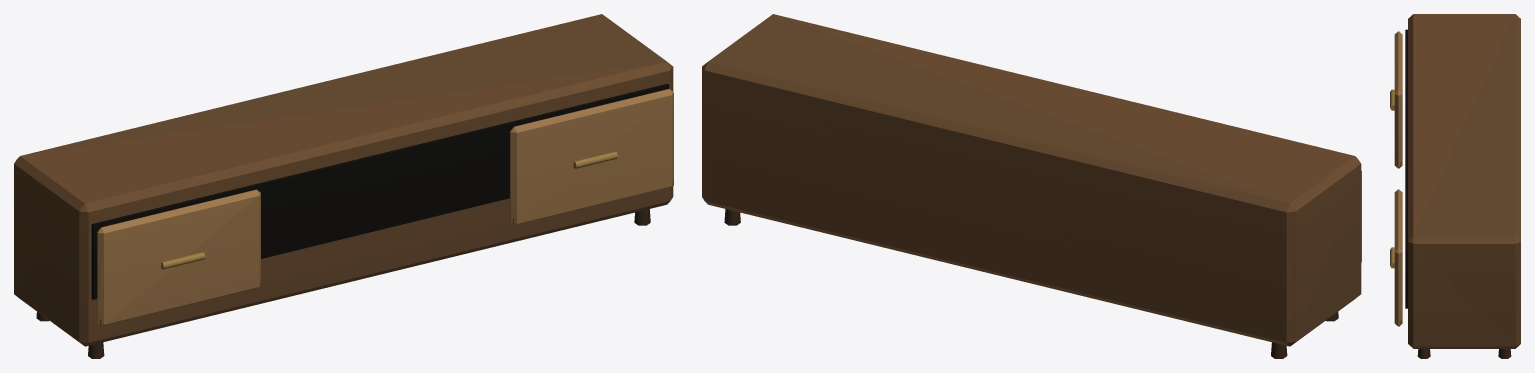
File: media_unit.glb
The picture shows the model from 3 angles, left to right: view 1: azimuth 30°, elevation 25°; view 2: azimuth 150°, elevation 25°; view 3: azimuth 270°, elevation 25°; orthographic projection. The views are drawn at different scales.
Parts seen in each view (by area): view 1: media_unit; view 2: media_unit; view 3: media_unit.
Boxes of the visible parts, x1=… form: media_unit: x1=14, y1=14, x2=673, y2=358; media_unit: x1=702, y1=14, x2=1361, y2=358; media_unit: x1=1390, y1=14, x2=1520, y2=358.
Bounding box in the file's own units: 2 × 0.5201 × 0.487.
